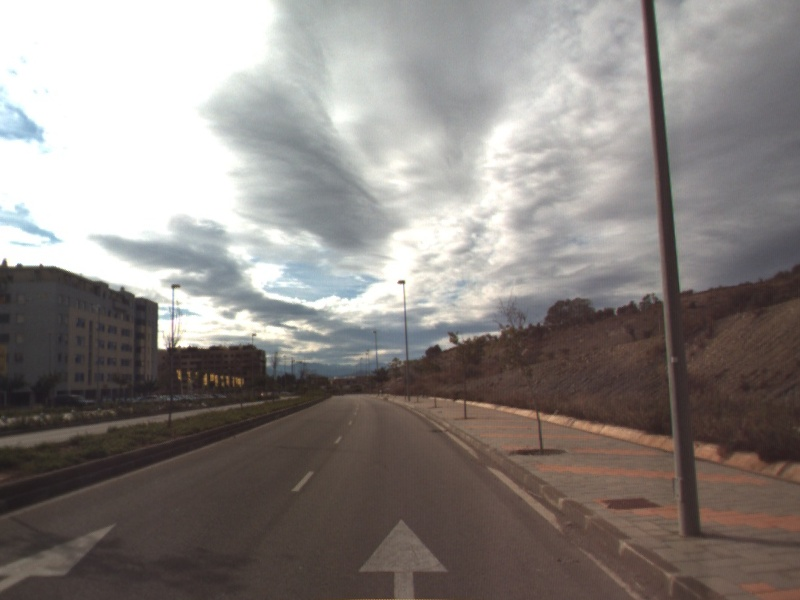STRAIGHT: (1, 520, 120, 592), (354, 516, 451, 600)
